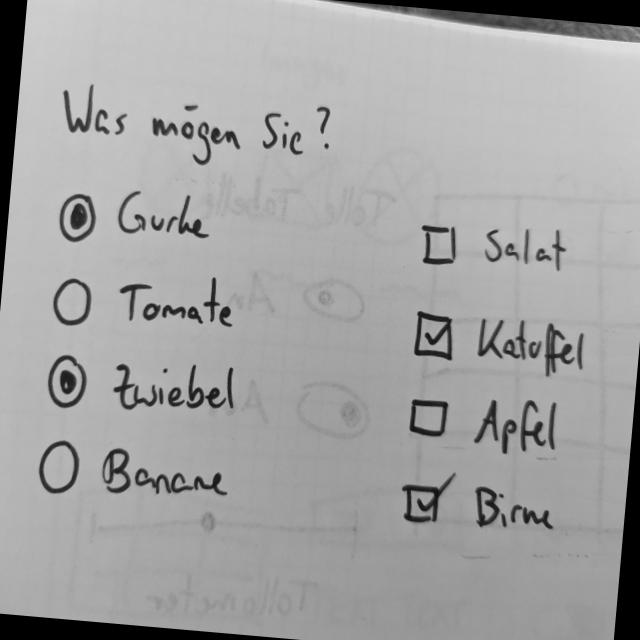checkbox: (410, 306, 593, 389), (403, 383, 563, 463), (396, 468, 559, 542), (419, 215, 572, 281)
label: (49, 80, 341, 185)
radio: (41, 349, 242, 427), (50, 264, 239, 342), (37, 439, 236, 513), (55, 179, 218, 260)
